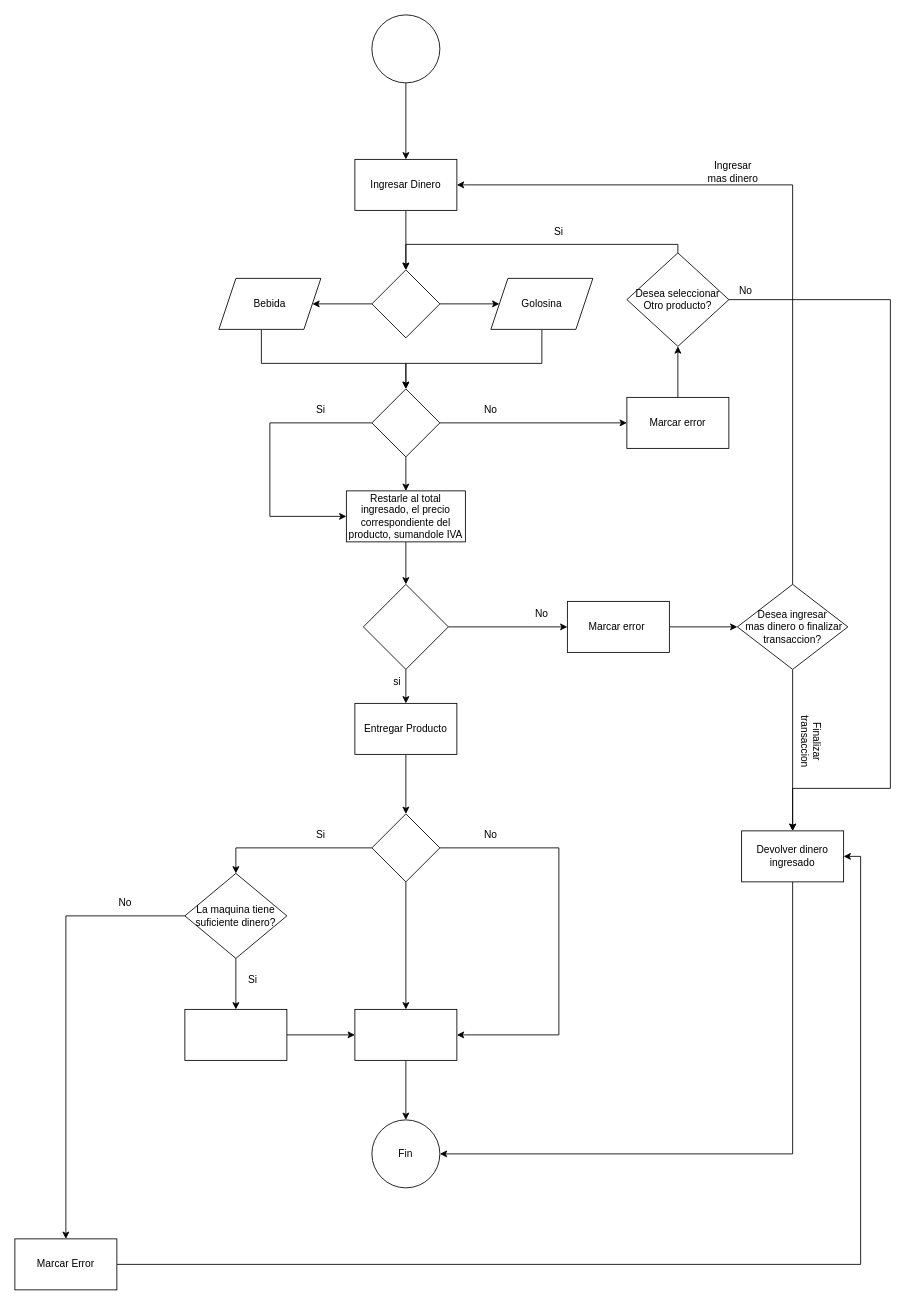
Image size: 912x1305. Some labels were removed from this diagram. Here are the shapes that lost their labels. From the top down, the centre of each, then its label:
At (405,48): "Inicio".
At (405,303): "Seleccionar Producto".
At (405,422): "Esta en existencia?".
At (405,626): "Fue suficiente dinero?".
At (405,847): "Sobro Dinero?".
At (235,1034): "Entregar Vuelto".
At (405,1034): "Entregar Factura".
